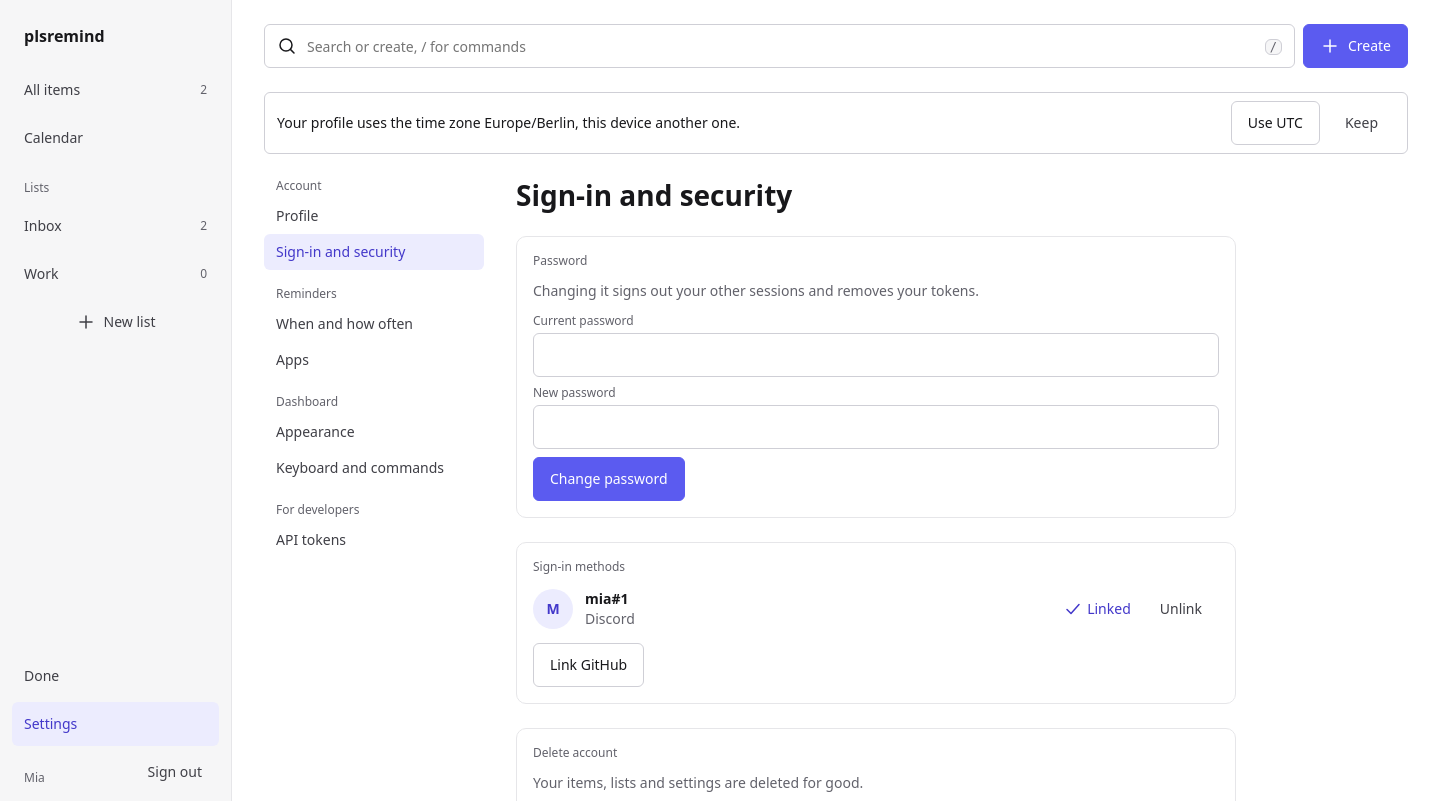
Scenario: the password is changed with the current one
Check: the navigation bar named "Settings" is shown, box [264,178,484,558]
Type "old one" into the password field labelled "Current password" at (876, 355), box [533,333,1219,377]
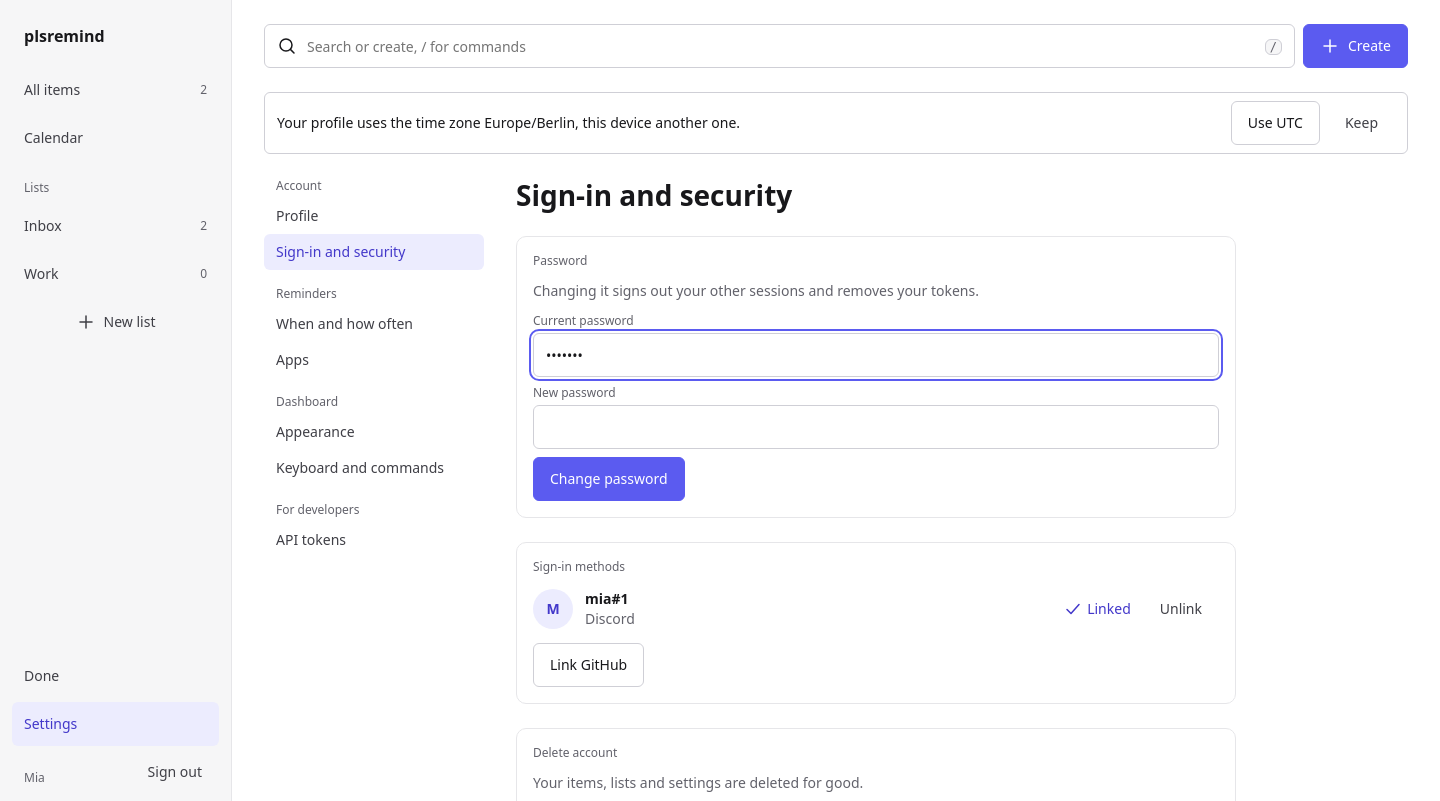
Type "a brand new one" into the password field labelled "New password" at (876, 427), box [533,405,1219,449]
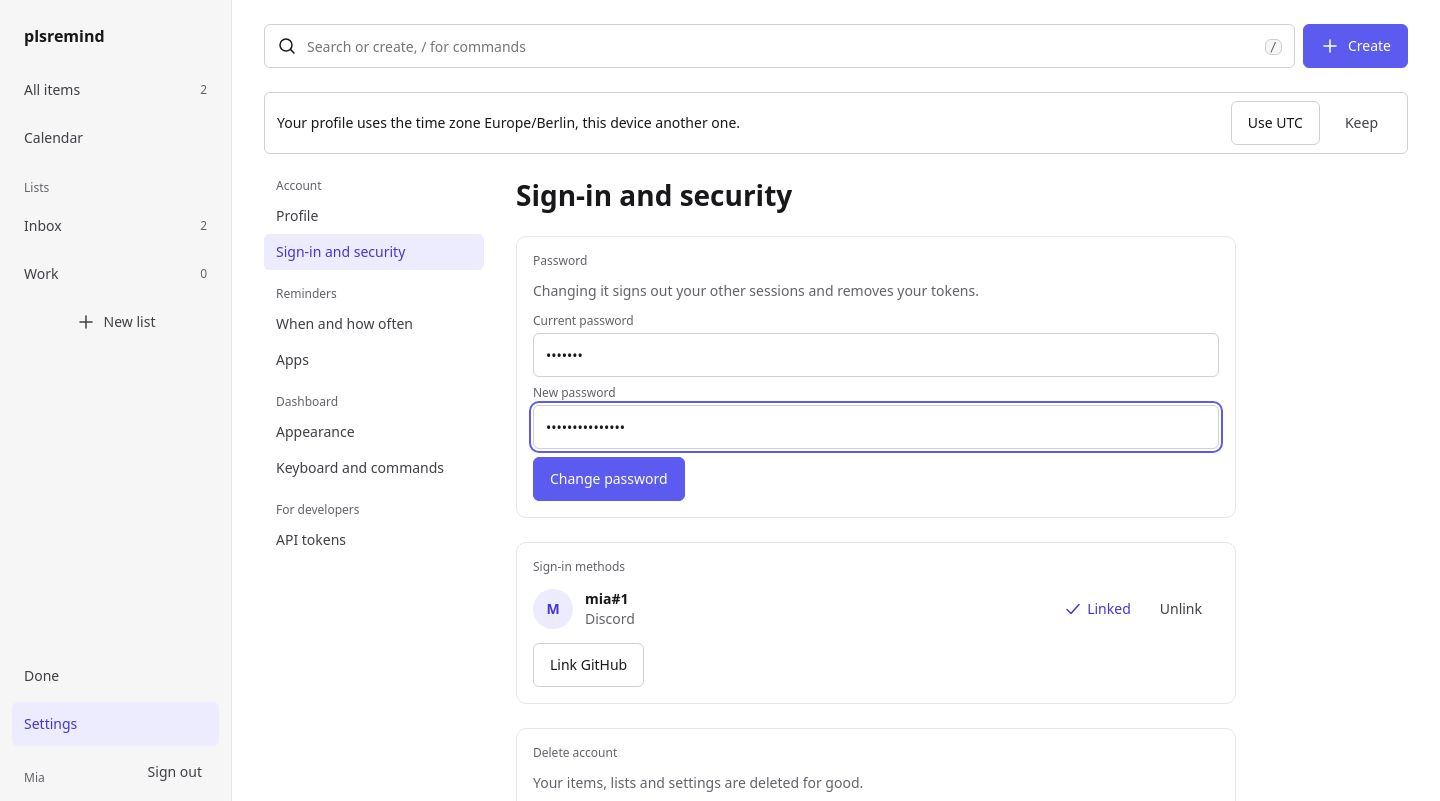
Click the button "Change password" at (609, 479), box [533,457,685,501]
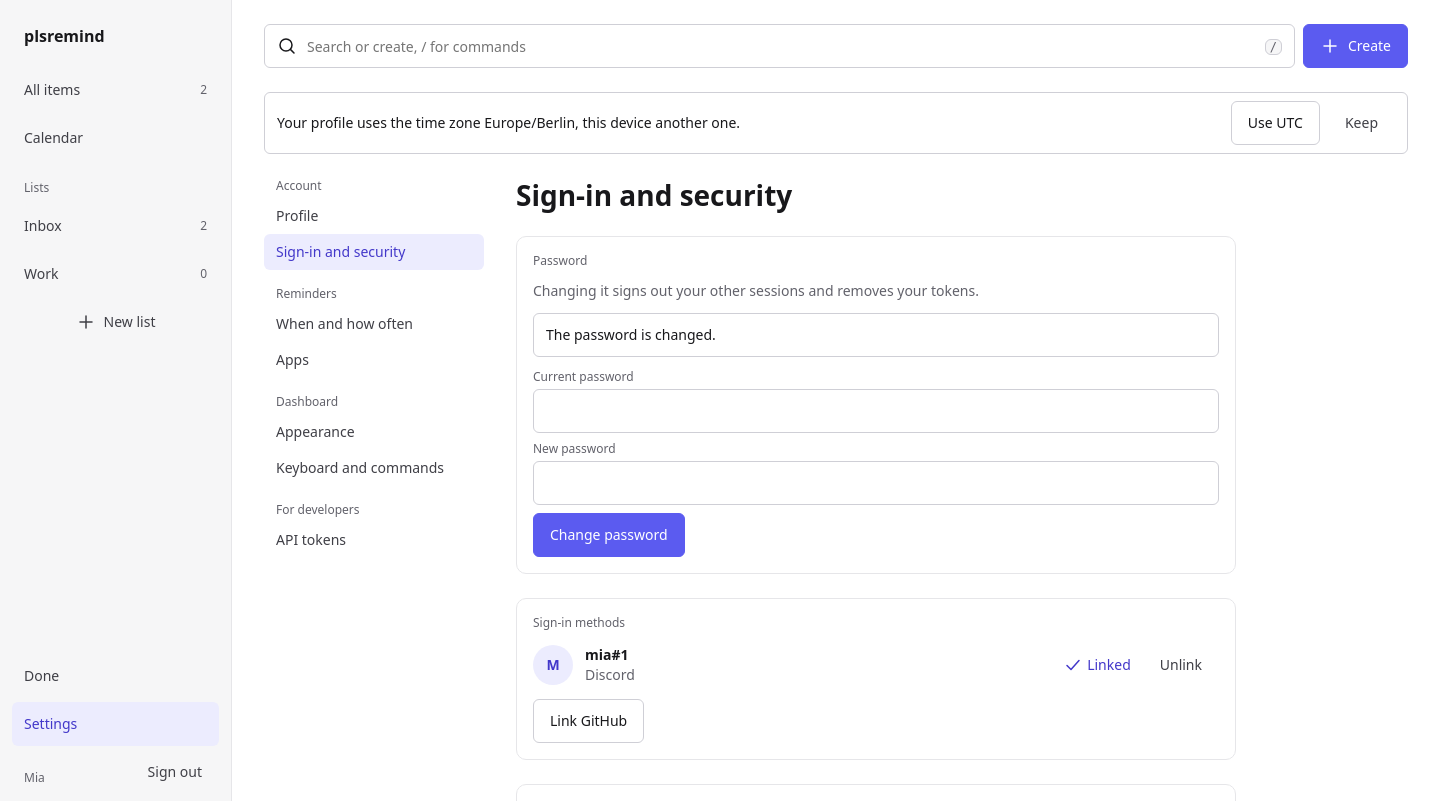
Check: the text "The password is changed." is shown, box [546,325,716,344]
Check: the password field labelled "New password" is empty, box [533,461,1219,505]
